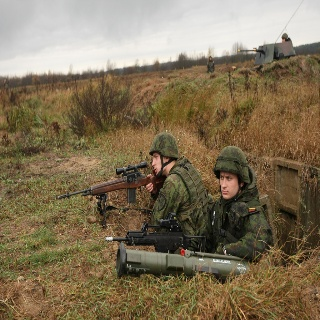rifle: (56, 159, 166, 204), (104, 212, 206, 253)
